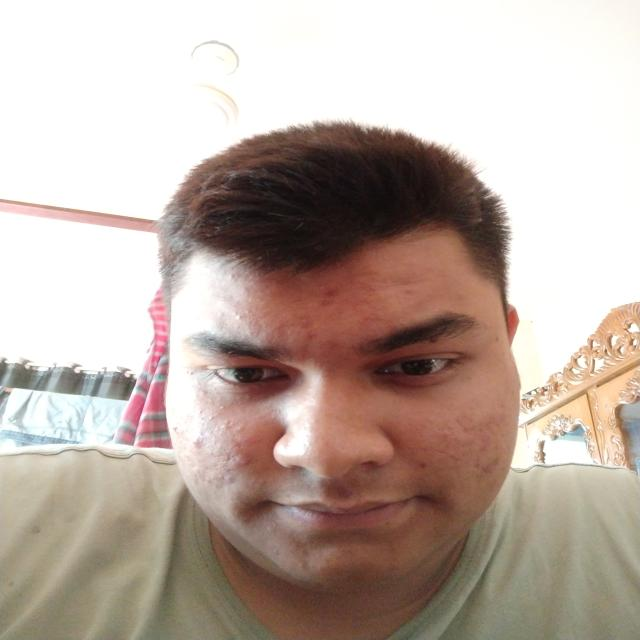Acne: (317, 280, 342, 310), (476, 418, 495, 452), (313, 339, 339, 361), (210, 308, 254, 320), (480, 456, 504, 475), (346, 297, 375, 311), (358, 311, 384, 325), (217, 419, 244, 432), (189, 431, 206, 451), (194, 408, 218, 421), (452, 416, 473, 429), (298, 342, 310, 363), (491, 412, 510, 425), (215, 470, 235, 482), (360, 282, 383, 292), (237, 457, 253, 471), (298, 312, 310, 330), (180, 366, 198, 378), (262, 518, 280, 530), (271, 322, 292, 332), (190, 461, 204, 475), (297, 560, 313, 571), (228, 441, 245, 451), (170, 424, 184, 436), (185, 475, 209, 482), (397, 287, 417, 295), (417, 460, 430, 471), (267, 546, 280, 557), (182, 452, 196, 462), (384, 564, 398, 574), (304, 329, 317, 338), (383, 544, 397, 552), (228, 272, 240, 281), (438, 430, 448, 440), (499, 400, 508, 410), (214, 406, 226, 410)
Englarged-Pores: (421, 422, 495, 465), (193, 424, 241, 476)
Eyebags: (192, 378, 298, 407), (373, 370, 458, 401)
Wrinkles: (284, 274, 430, 303)
